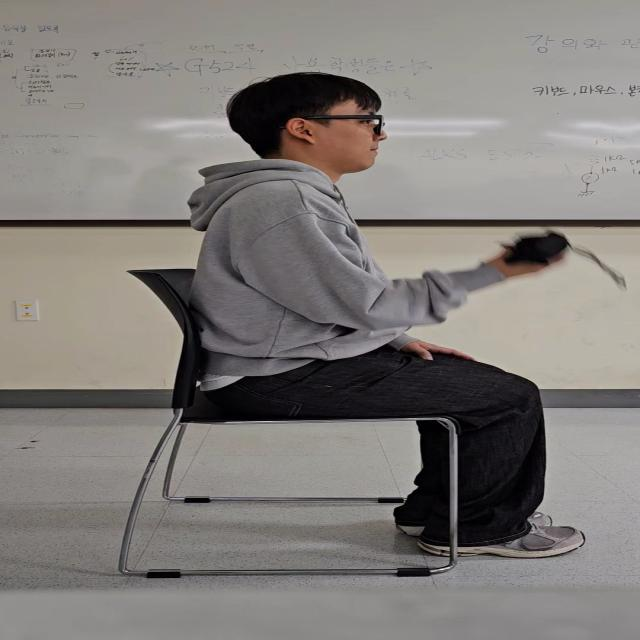curl: (240, 192, 578, 334)
